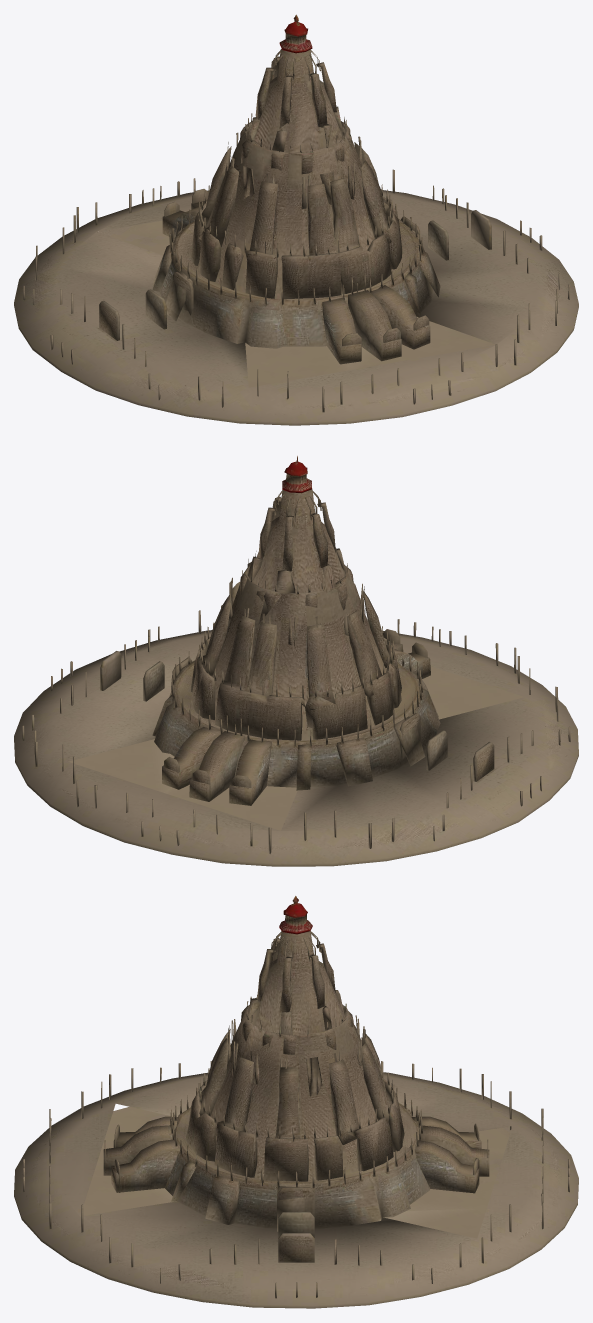
The model's file is selected.fbx.
The picture shows the model from 3 angles, top to bottom: view 1: azimuth 30°, elevation 25°; view 2: azimuth 150°, elevation 25°; view 3: azimuth 270°, elevation 25°; orthographic projection.
Visible parts, largest first — view 1: tripo_node_a3ad8364-2494-4ff1-85e1-30c445998424; view 2: tripo_node_a3ad8364-2494-4ff1-85e1-30c445998424; view 3: tripo_node_a3ad8364-2494-4ff1-85e1-30c445998424.
Part boxes in pixels (bbox=[...]): tripo_node_a3ad8364-2494-4ff1-85e1-30c445998424: bbox=[14, 14, 578, 425]; tripo_node_a3ad8364-2494-4ff1-85e1-30c445998424: bbox=[14, 456, 578, 866]; tripo_node_a3ad8364-2494-4ff1-85e1-30c445998424: bbox=[14, 896, 578, 1308].
Bounding box in the file's own units: 99.8 × 57.23 × 99.8.
1 material, 1 textured.
